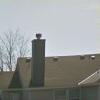Chimney: (23, 25, 51, 88)
